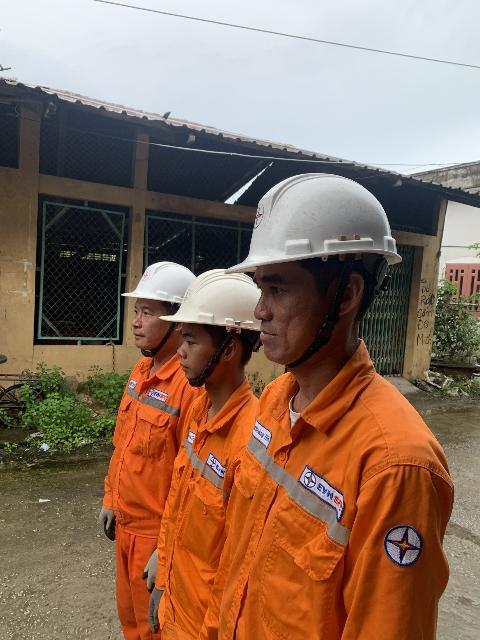gloves: (130, 582, 173, 635), (132, 537, 173, 587), (98, 494, 122, 533)
helmet: (217, 138, 412, 288), (167, 266, 264, 337), (104, 241, 198, 312)
